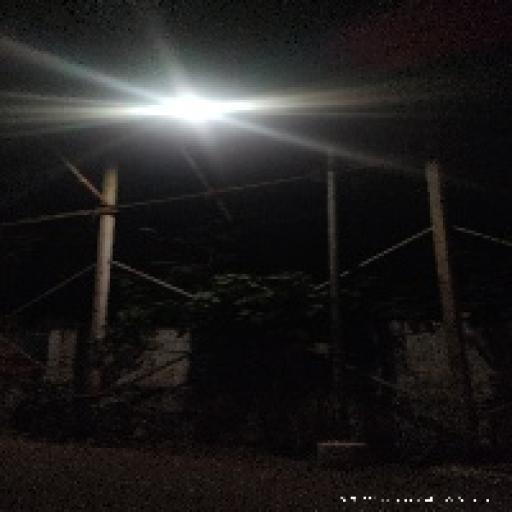Working: (135, 86, 236, 131)
